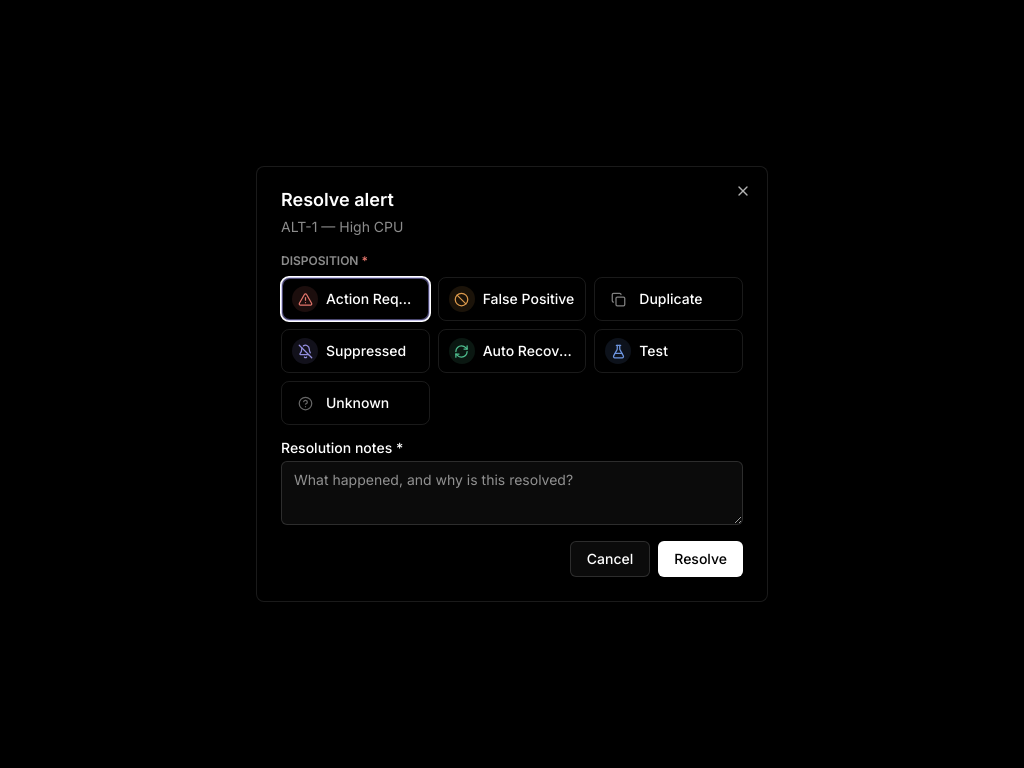
SetDispositionDialog › selecting a disposition updates the button label and clears the disposition-required error
// touch validation first
Click the button "Resolve": (701, 559) [658, 541, 743, 577]
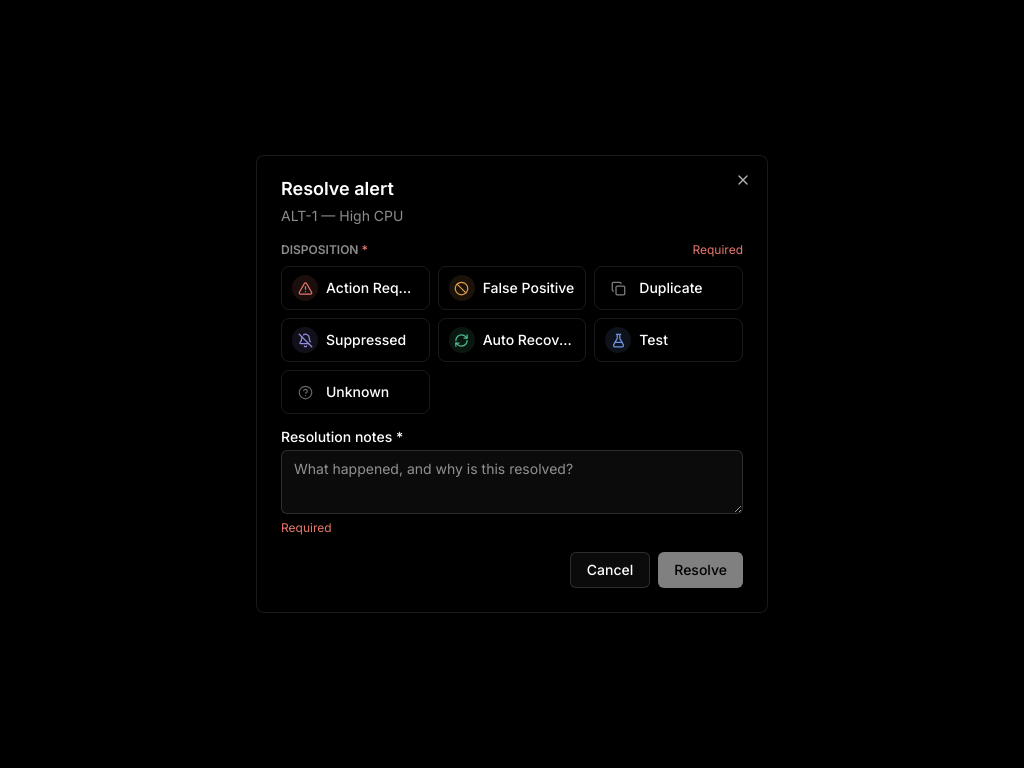
Now the text "Required" in the row of "DISPOSITION" is shown, box [692, 242, 743, 257]
Click the button "Duplicate": (669, 288) [594, 266, 743, 310]
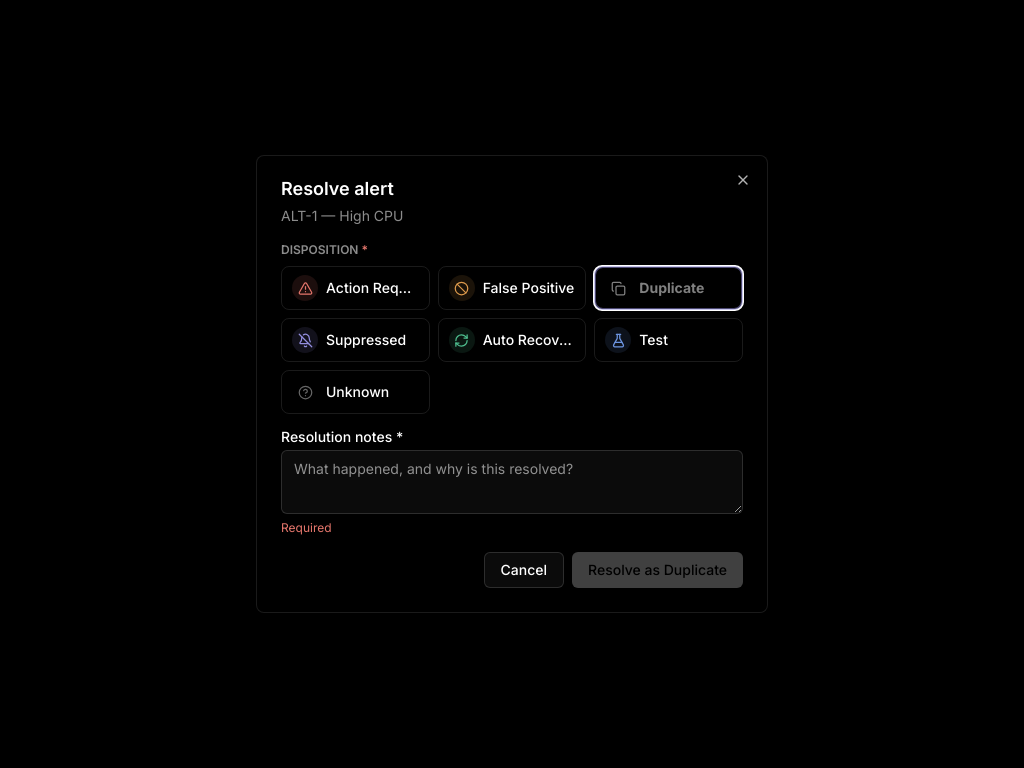
Now the button "Resolve as Duplicate" is shown, box [572, 552, 743, 588]
